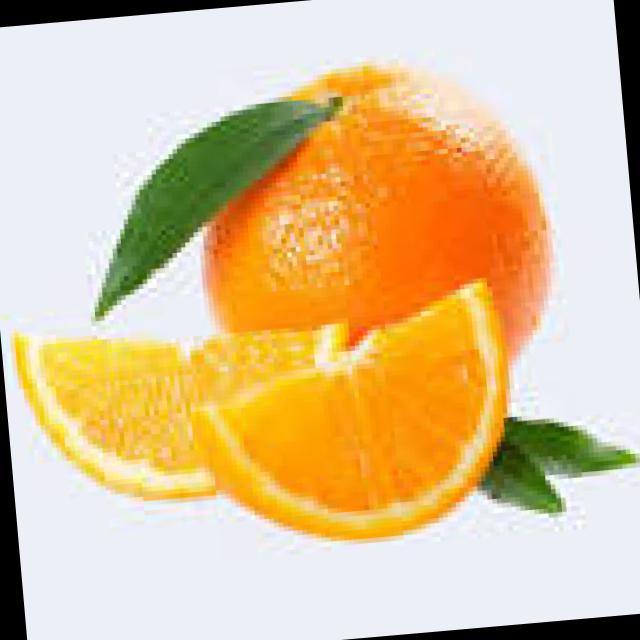orange: (206, 67, 548, 353), (198, 282, 507, 537), (13, 324, 349, 497)
